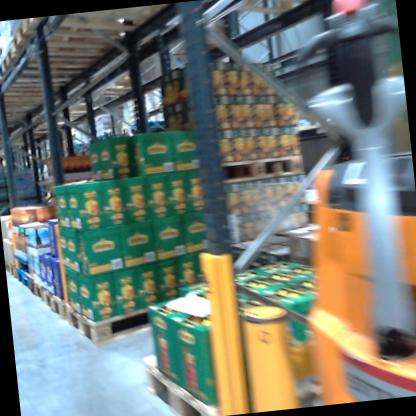pallet: (59, 263, 225, 352), (10, 6, 155, 60), (135, 335, 231, 416), (0, 27, 117, 83), (188, 148, 302, 196), (0, 46, 91, 95), (0, 68, 82, 101), (41, 280, 72, 331), (129, 116, 174, 136), (28, 270, 47, 304), (17, 263, 31, 294), (6, 254, 19, 281), (87, 132, 106, 145), (76, 140, 91, 154), (62, 141, 80, 151), (118, 123, 132, 134), (102, 131, 114, 143)
pallet_truck: (277, 0, 416, 402)
